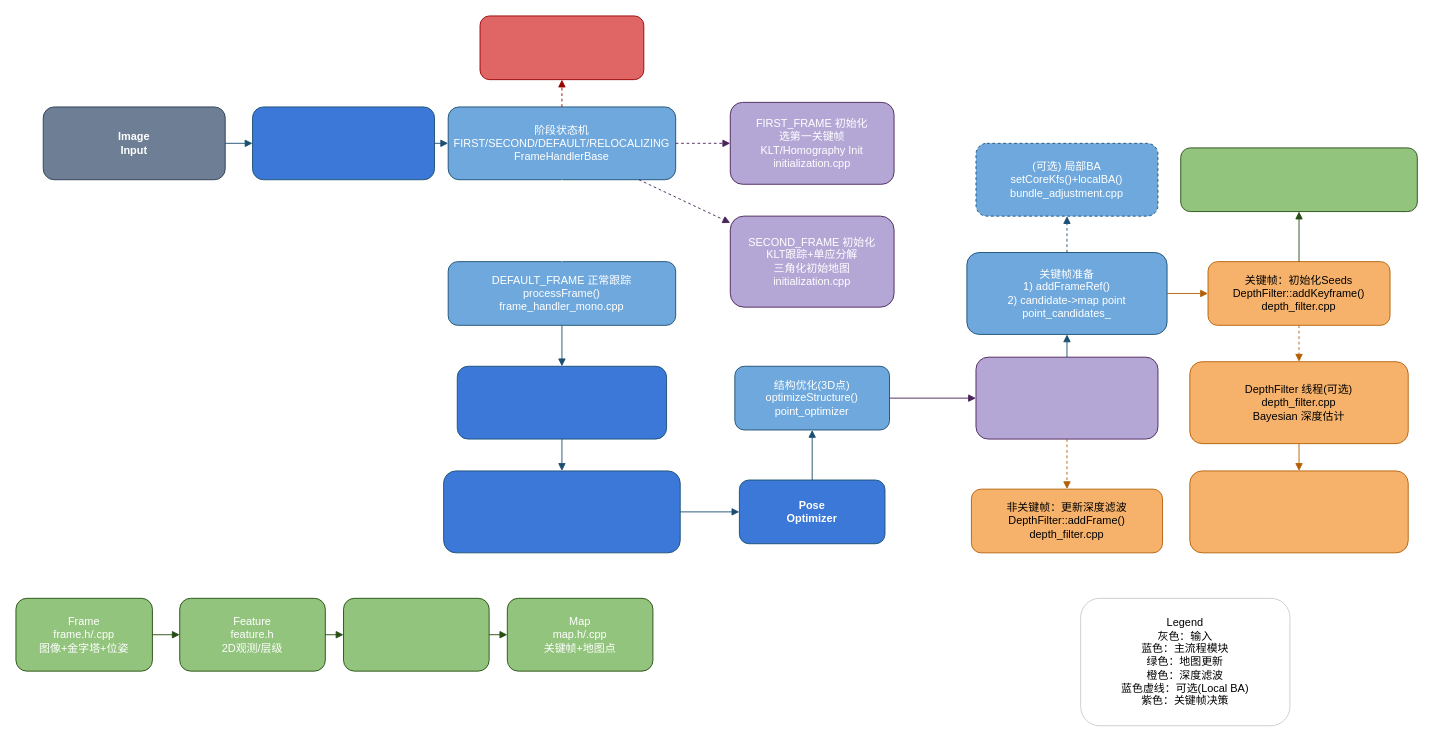
The diagram is 1433 pixels wide and 742 high, and some of its shapes have lost their labels. Here are the shapes that lost their labels. From the top down, the centre of each, then its label:
At point (561, 47): "RELOCALIZING 重定位/恢复 SparseImgAlign(ref_kf) frame_handler_mono.cpp".
At point (343, 143): "Pyramid Creation".
At point (1298, 179): "关键帧管理/地图更新 Map::addKeyframe() safeDeleteFrame()+removeKeyframe()".
At point (561, 402): "Sparse Img Align".
At point (1066, 397): "关键帧决策 needNewKf(depth_mean) tracking_quality 检查 frame_handler_mono.cpp".
At point (561, 511): "Reproject + Align".
At point (1298, 511): "Seed(逆深度) 均值/方差/β分布 收敛->候选地图点".
At point (416, 634): "Point point.h/.cpp 3D点/质量".
